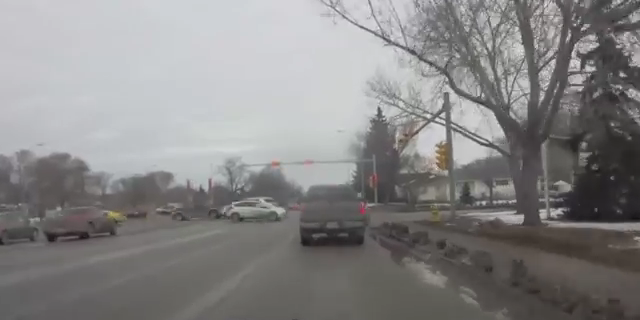car: (298, 184, 368, 246), (41, 204, 119, 242), (1, 210, 41, 247), (225, 199, 286, 221), (172, 200, 223, 221), (82, 208, 126, 226), (155, 200, 187, 215), (122, 208, 148, 218)
